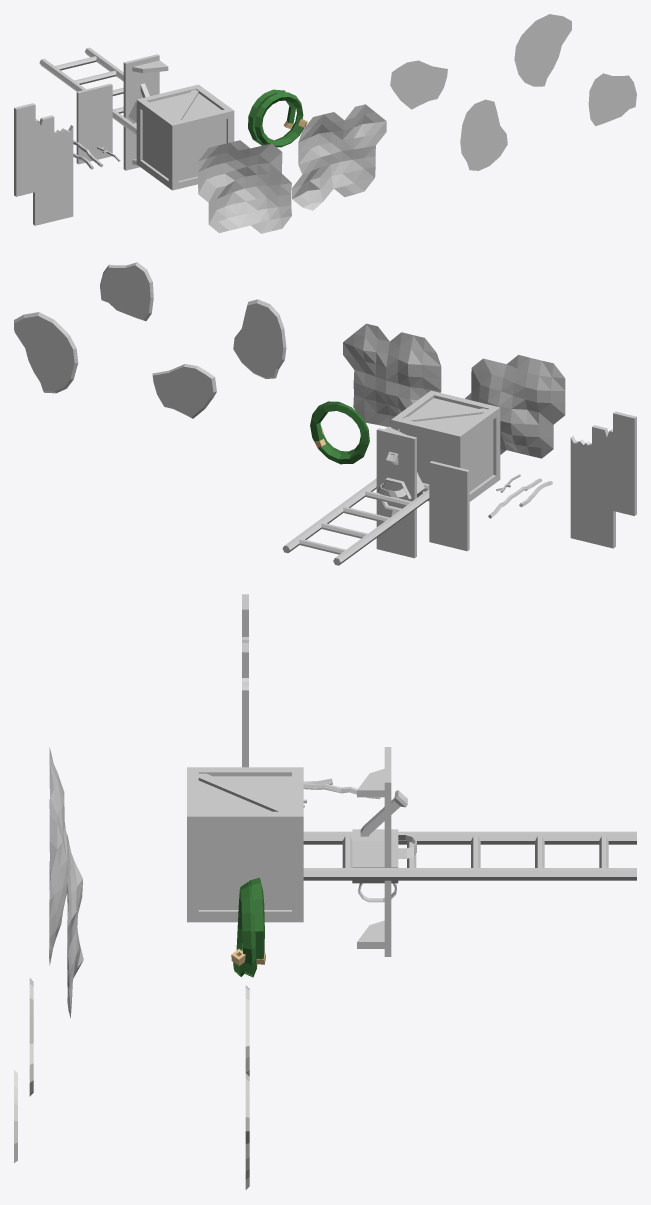
The model's file is Props.fbx.
3 renders of one model, top to bottom at view 1: azimuth 30°, elevation 25°; view 2: azimuth 150°, elevation 25°; view 3: azimuth 270°, elevation 25°, orthographic. The views are drawn at different scales.
Parts seen in each view (by area): view 1: Crate, Dirt Spill 1, Dirt Spill 2, Puddle 2, Shelf 2, Puddle 1, Shelf 1, Plank 2, Puddle 4, Plank 1, Puddle 3, Hose 1 (+2 smaller); view 2: Crate, Dirt Spill 1, Dirt Spill 2, Shelf 1, Puddle 2, Shelf 2, Ladder, Puddle 1, Plank 2, Puddle 4, Puddle 3, Plank 1 (+3 smaller); view 3: Crate, Ladder, Dirt Spill 1, Watering Can, Shelf 1, Hose 1, Dirt Spill 2.
Part boxes in pixels (box(x1,y1,x2,y2)): Crate: box(136, 84, 234, 190); Dirt Spill 1: box(198, 140, 291, 233); Dirt Spill 2: box(292, 104, 386, 210); Puddle 2: box(514, 14, 571, 86); Shelf 2: box(76, 83, 112, 164); Puddle 1: box(460, 99, 507, 170); Shelf 1: box(123, 54, 168, 170); Plank 2: box(33, 115, 54, 225); Puddle 4: box(390, 60, 447, 109); Plank 1: box(14, 103, 35, 196); Puddle 3: box(588, 73, 636, 126); Hose 1: box(248, 89, 307, 147); Crate: box(391, 390, 500, 501); Dirt Spill 1: box(465, 355, 565, 458); Dirt Spill 2: box(343, 323, 441, 426); Shelf 1: box(376, 426, 416, 558); Puddle 2: box(14, 312, 78, 393); Shelf 2: box(429, 461, 469, 551); Ladder: box(282, 478, 429, 565); Puddle 1: box(233, 299, 286, 378); Plank 2: box(592, 425, 615, 548); Puddle 4: box(152, 364, 216, 418); Puddle 3: box(100, 262, 153, 321); Plank 1: box(613, 411, 636, 515); Crate: box(187, 767, 303, 922); Ladder: box(303, 831, 636, 880); Dirt Spill 1: box(49, 747, 70, 965); Watering Can: box(352, 790, 416, 902); Shelf 1: box(357, 755, 391, 956); Hose 1: box(231, 877, 265, 977); Dirt Spill 2: box(67, 834, 83, 1017).
Bounding box in the file's own units: 5891 × 1322 × 3498.
